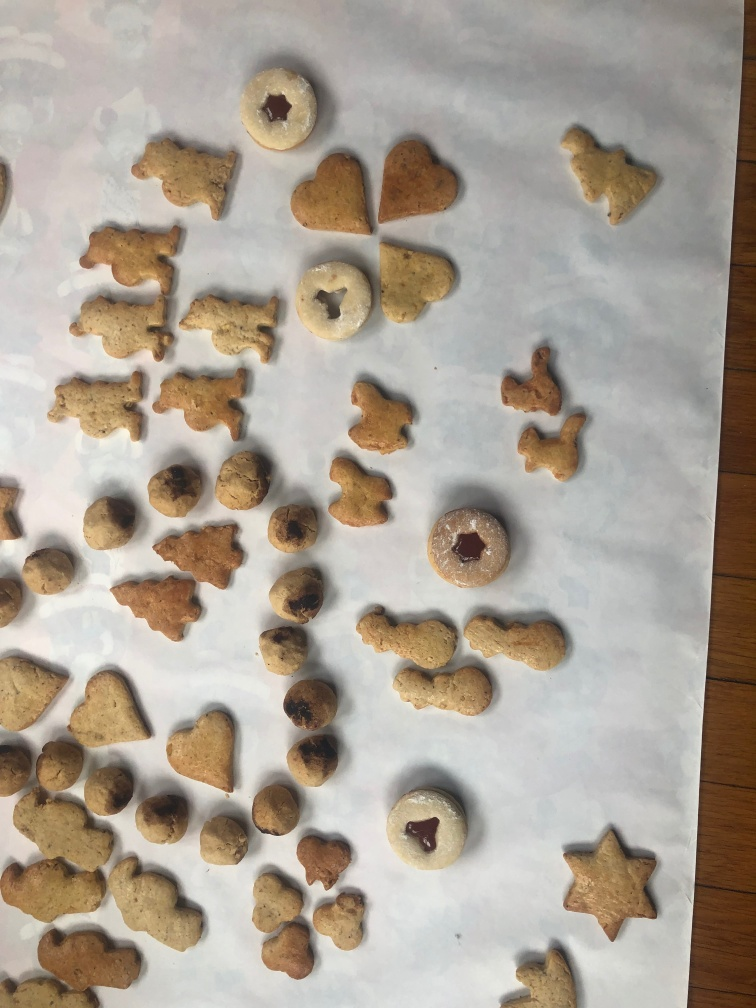christmas shortbread with jam: (231, 60, 322, 156), (381, 784, 470, 873), (425, 500, 511, 589), (293, 259, 372, 342)
christmas tree: (149, 516, 254, 592), (107, 571, 214, 644)
flake: (248, 859, 310, 934), (258, 918, 319, 983), (295, 829, 359, 889), (311, 884, 370, 949)
heart: (368, 231, 464, 327), (377, 129, 463, 228), (289, 146, 376, 238), (71, 661, 155, 750), (163, 700, 241, 793), (2, 645, 69, 729)
king mage: (554, 118, 659, 229)
lamb: (343, 368, 423, 456), (325, 444, 398, 539)
santa claus: (95, 849, 221, 955), (129, 126, 242, 220), (10, 784, 117, 875), (65, 286, 184, 367), (76, 215, 187, 300), (180, 282, 285, 367), (149, 363, 252, 445), (43, 368, 150, 444), (33, 921, 147, 991), (3, 860, 111, 921)
snowball: (79, 488, 141, 555), (266, 563, 330, 627), (283, 671, 344, 733), (212, 449, 271, 512), (145, 456, 203, 520), (198, 807, 259, 867), (19, 538, 81, 597), (264, 495, 326, 554), (247, 776, 308, 834), (281, 732, 349, 784), (137, 786, 192, 847), (256, 623, 315, 678), (35, 734, 83, 795), (83, 761, 137, 815)
snowman: (455, 607, 585, 674), (353, 598, 461, 670), (388, 660, 503, 719)
squirrel: (492, 336, 574, 420), (515, 405, 591, 485)
star: (555, 823, 660, 949)
